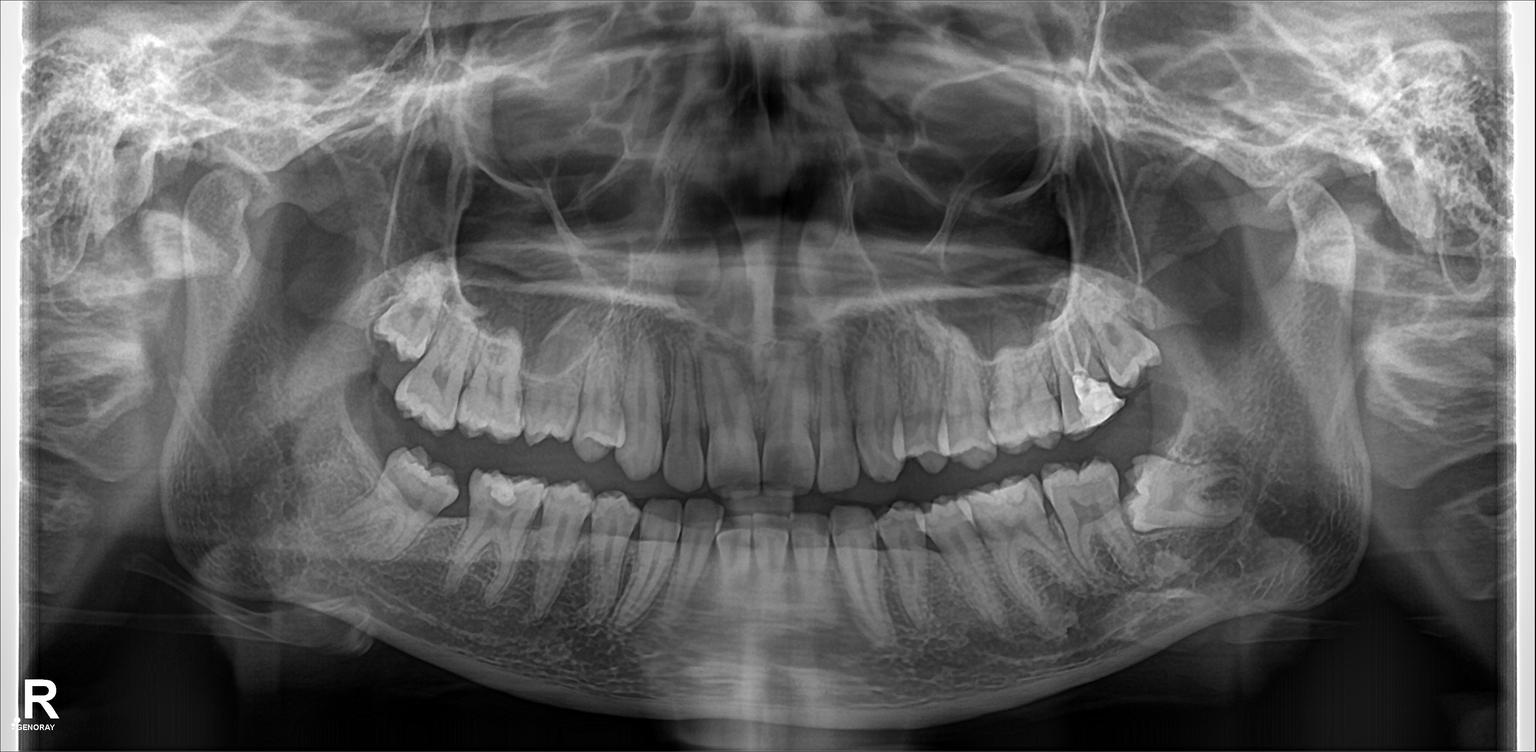Endodontically Treated Tooth: (1047, 318, 1117, 435)
Impacted Third Molar: (350, 458, 468, 553), (1129, 445, 1256, 529), (1086, 307, 1162, 381), (380, 261, 438, 355)
